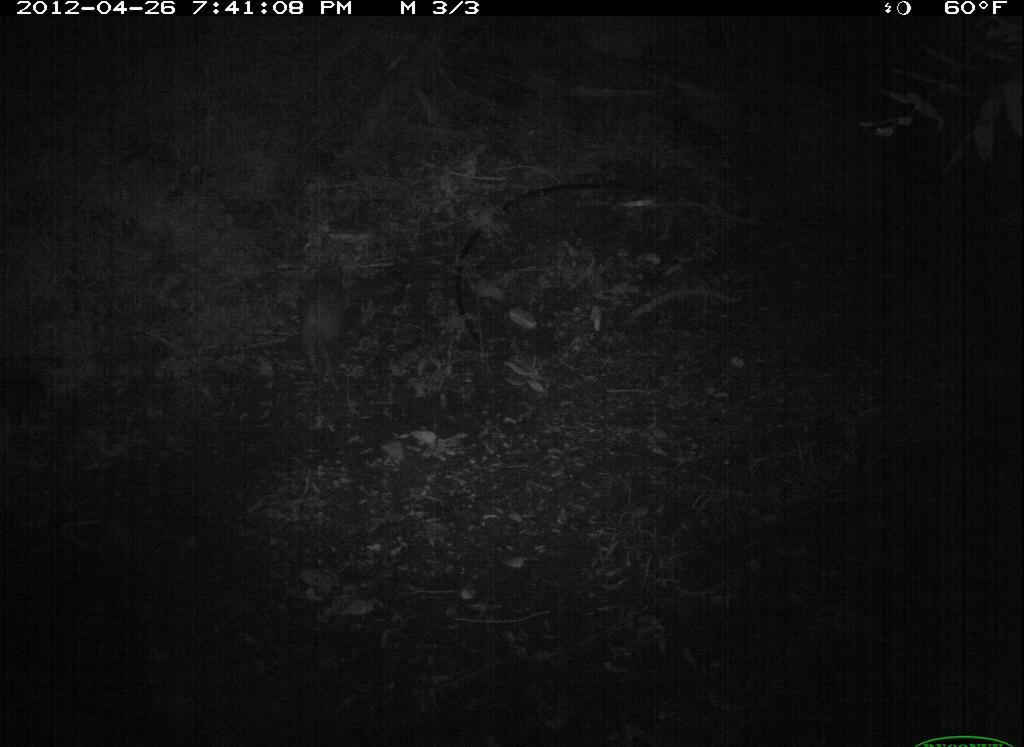opossum: (295, 260, 355, 397)
